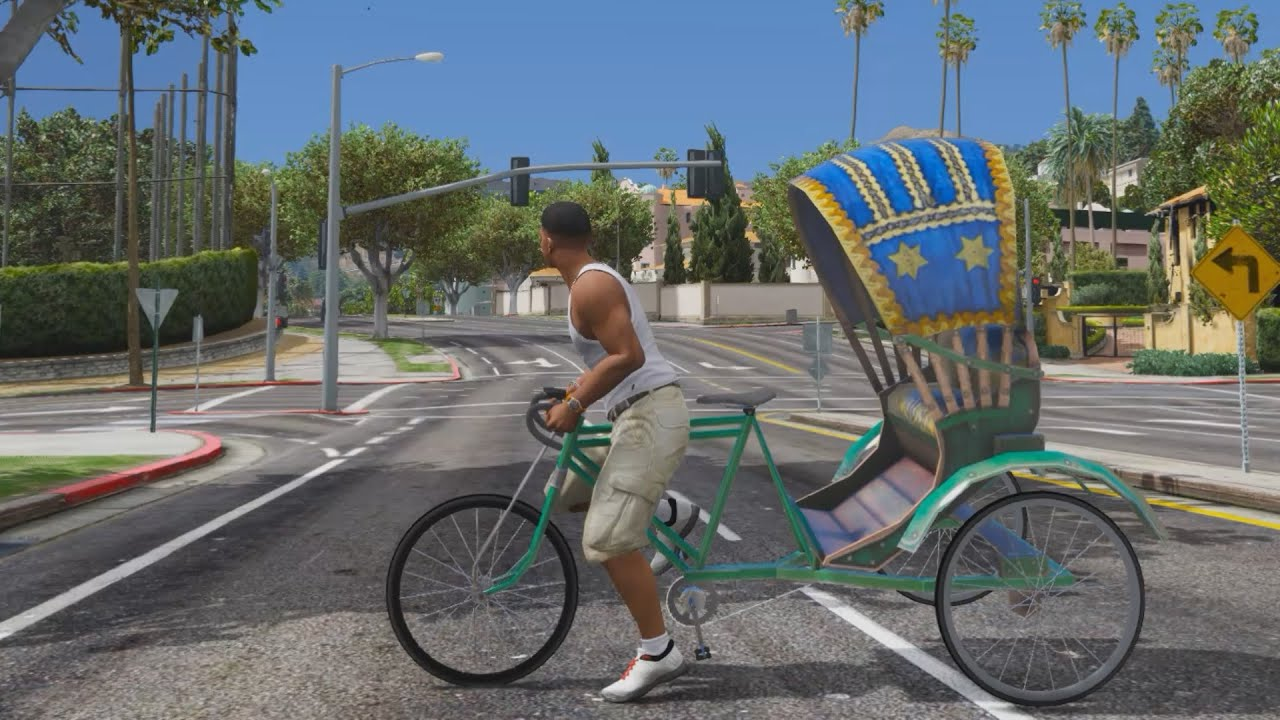Rickshaw: (406, 102, 1148, 716)
